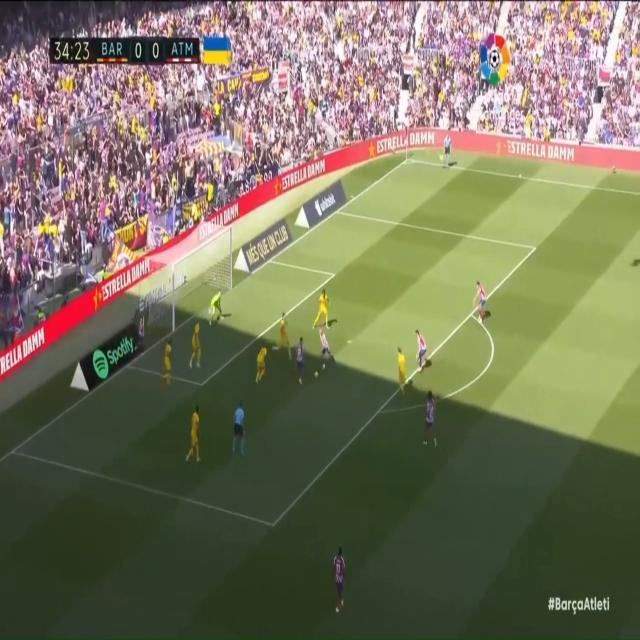ball: (314, 366, 320, 381)
goalkeeper: (200, 282, 226, 332)
player: (330, 539, 355, 628), (185, 403, 203, 478), (422, 378, 439, 456), (389, 343, 411, 398), (254, 328, 273, 388), (317, 328, 338, 381), (473, 267, 490, 331), (314, 283, 332, 340), (277, 304, 294, 364), (295, 329, 311, 389), (414, 318, 429, 379), (162, 332, 178, 388), (194, 314, 209, 373), (135, 303, 148, 363)
referee: (226, 399, 247, 466), (442, 129, 459, 173)
